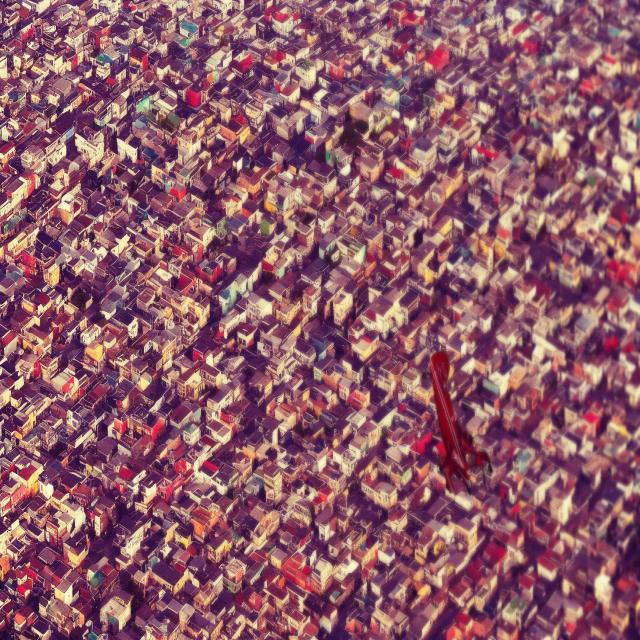airplane: (428, 350, 492, 494)
